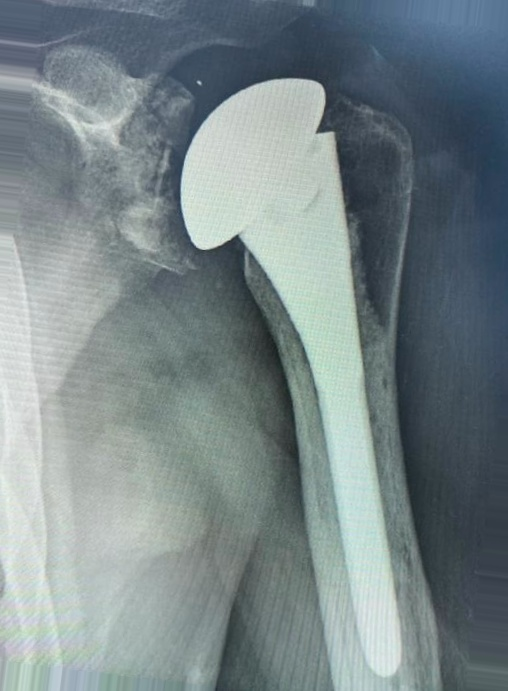Shoulder - Anotomical - Stryker: (172, 74, 356, 253)
